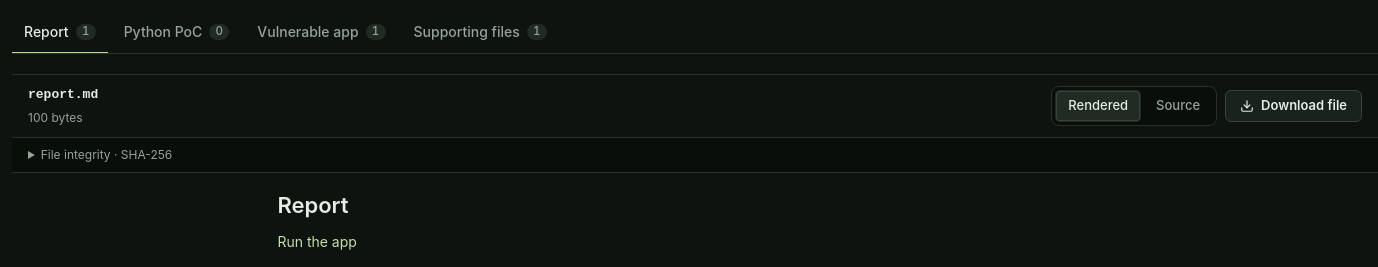
Scenario: follows report links across artifact groups and exposes supporting files
The image size is (1378, 267).
Step 1. Click the link "Run the app" → (317,241), box 277,233 -> 357,250
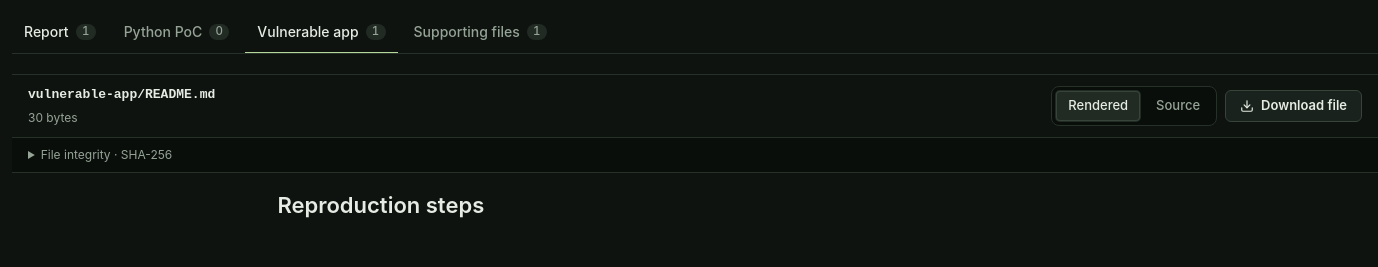
Check: the tab "Supporting files 1" is shown, box 402,12 -> 559,54
Check: the heading "Reproduction steps" is shown, box 277,192 -> 484,218
